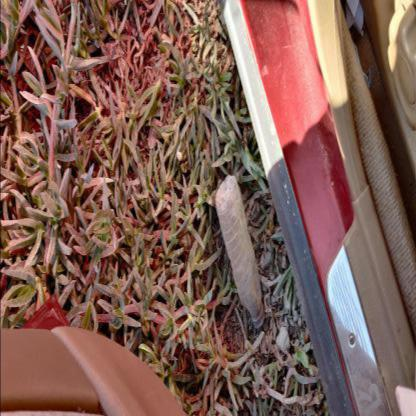Bottle: (253, 308, 265, 330)
Bottle cap: (215, 174, 265, 329)
Other litter: (354, 43, 377, 90)
Paper: (345, 1, 363, 37)
